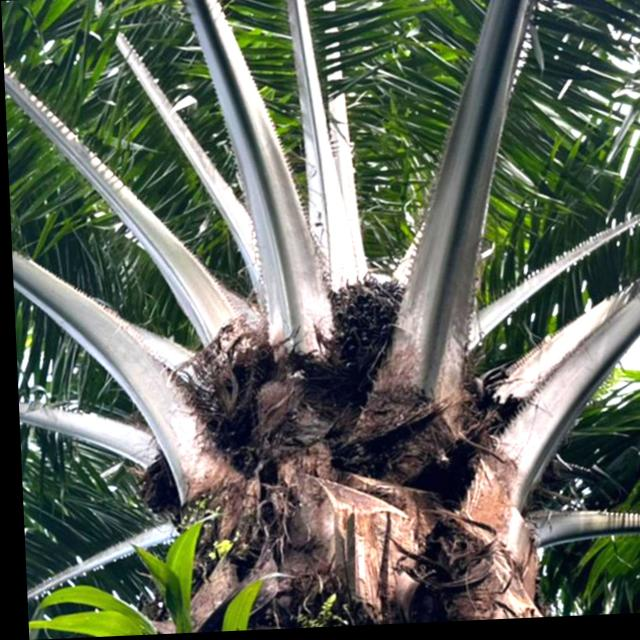almost: (308, 270, 414, 396)
